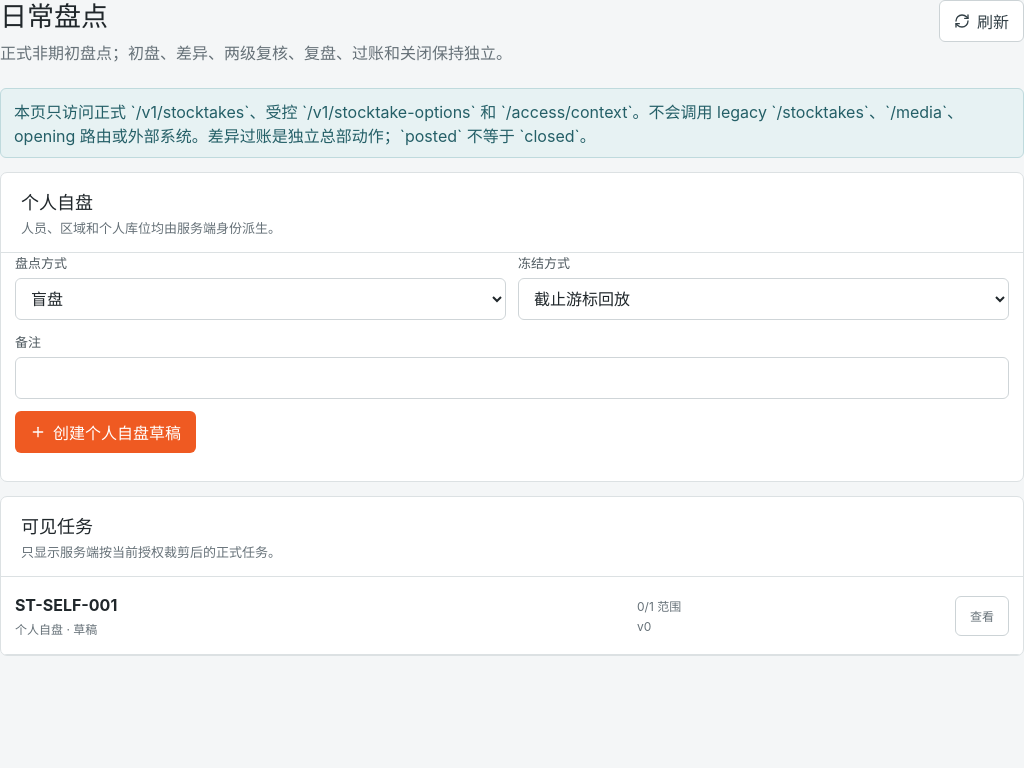
Test: formal non-opening stocktake PC page › mounts the separate daily-stocktake entry and renders eight independent axes
Expected: the heading "日常盘点" is shown, [0, 0, 108, 33]
Click the button "查看" at (982, 616), box [955, 596, 1009, 636]
(page scrolled)
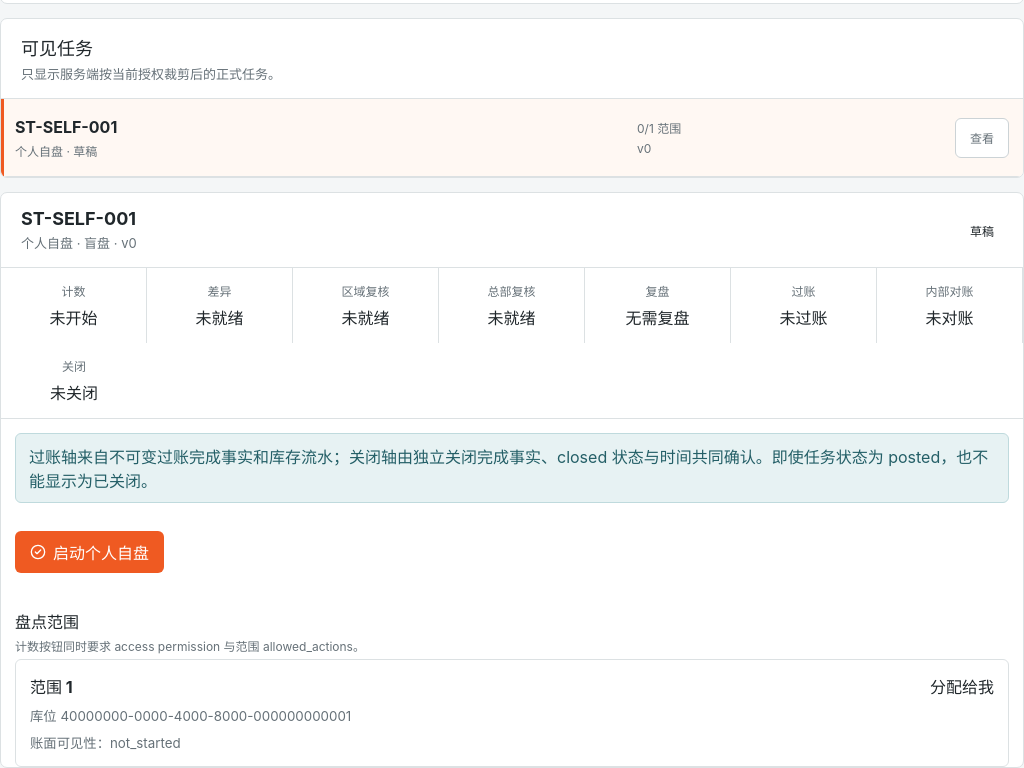
Expected: the text "计数" is shown, [62, 284, 86, 299]
Expected: the text "差异" is shown, [208, 284, 232, 299]
Expected: the text "区域复核" is shown, [342, 284, 390, 299]
